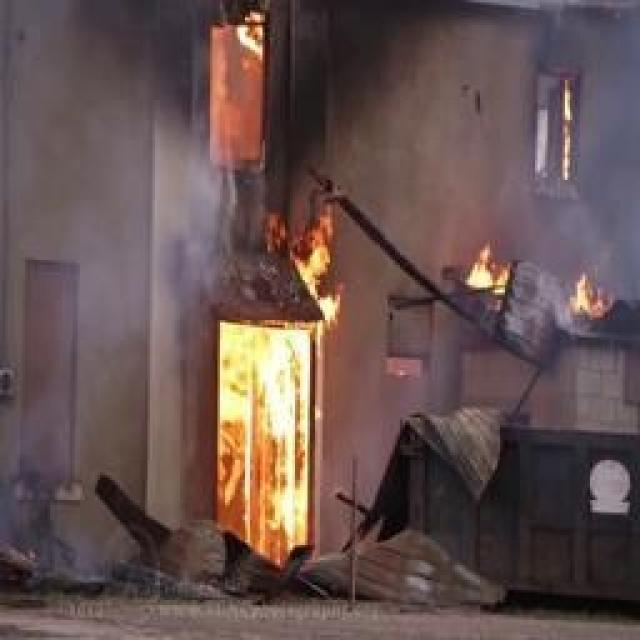fire: (216, 316, 322, 539), (212, 15, 268, 167)
